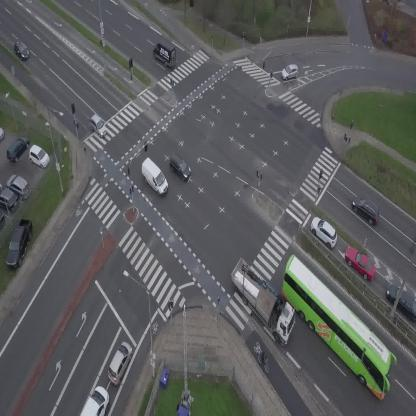bicycle: (256, 350, 271, 374)
bus: (264, 250, 411, 403)
car: (340, 241, 382, 284), (103, 339, 137, 386), (346, 191, 386, 228), (305, 213, 343, 250), (80, 383, 115, 416), (165, 153, 195, 183), (85, 113, 111, 140), (10, 39, 31, 62), (279, 63, 300, 81)
lorry: (218, 254, 309, 349), (134, 155, 174, 198), (148, 36, 183, 71)
